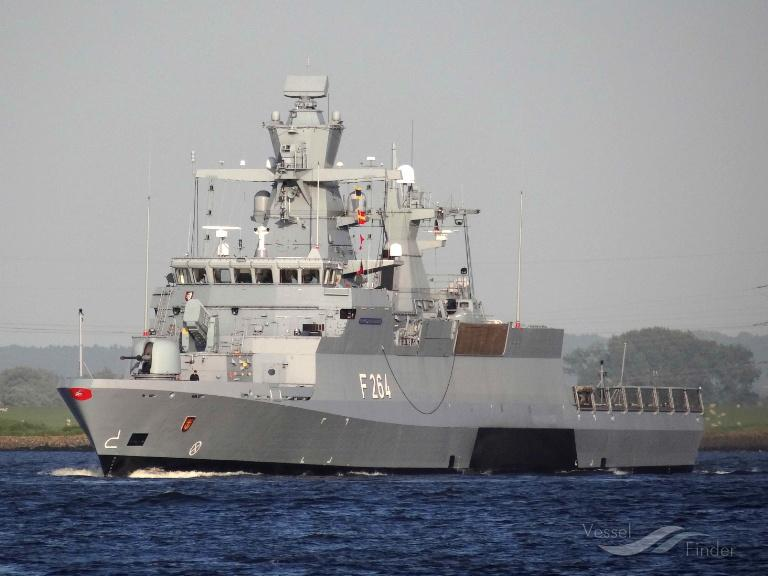OCR: (348, 366, 397, 410)
